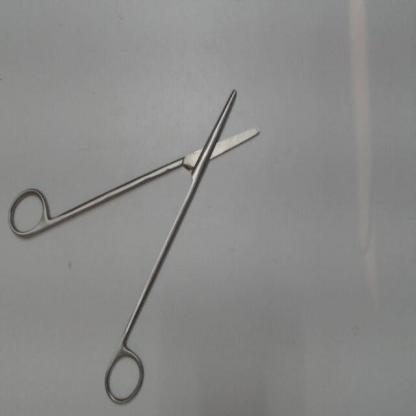9 Metzenbaum Scissors: (6, 75, 267, 412)
